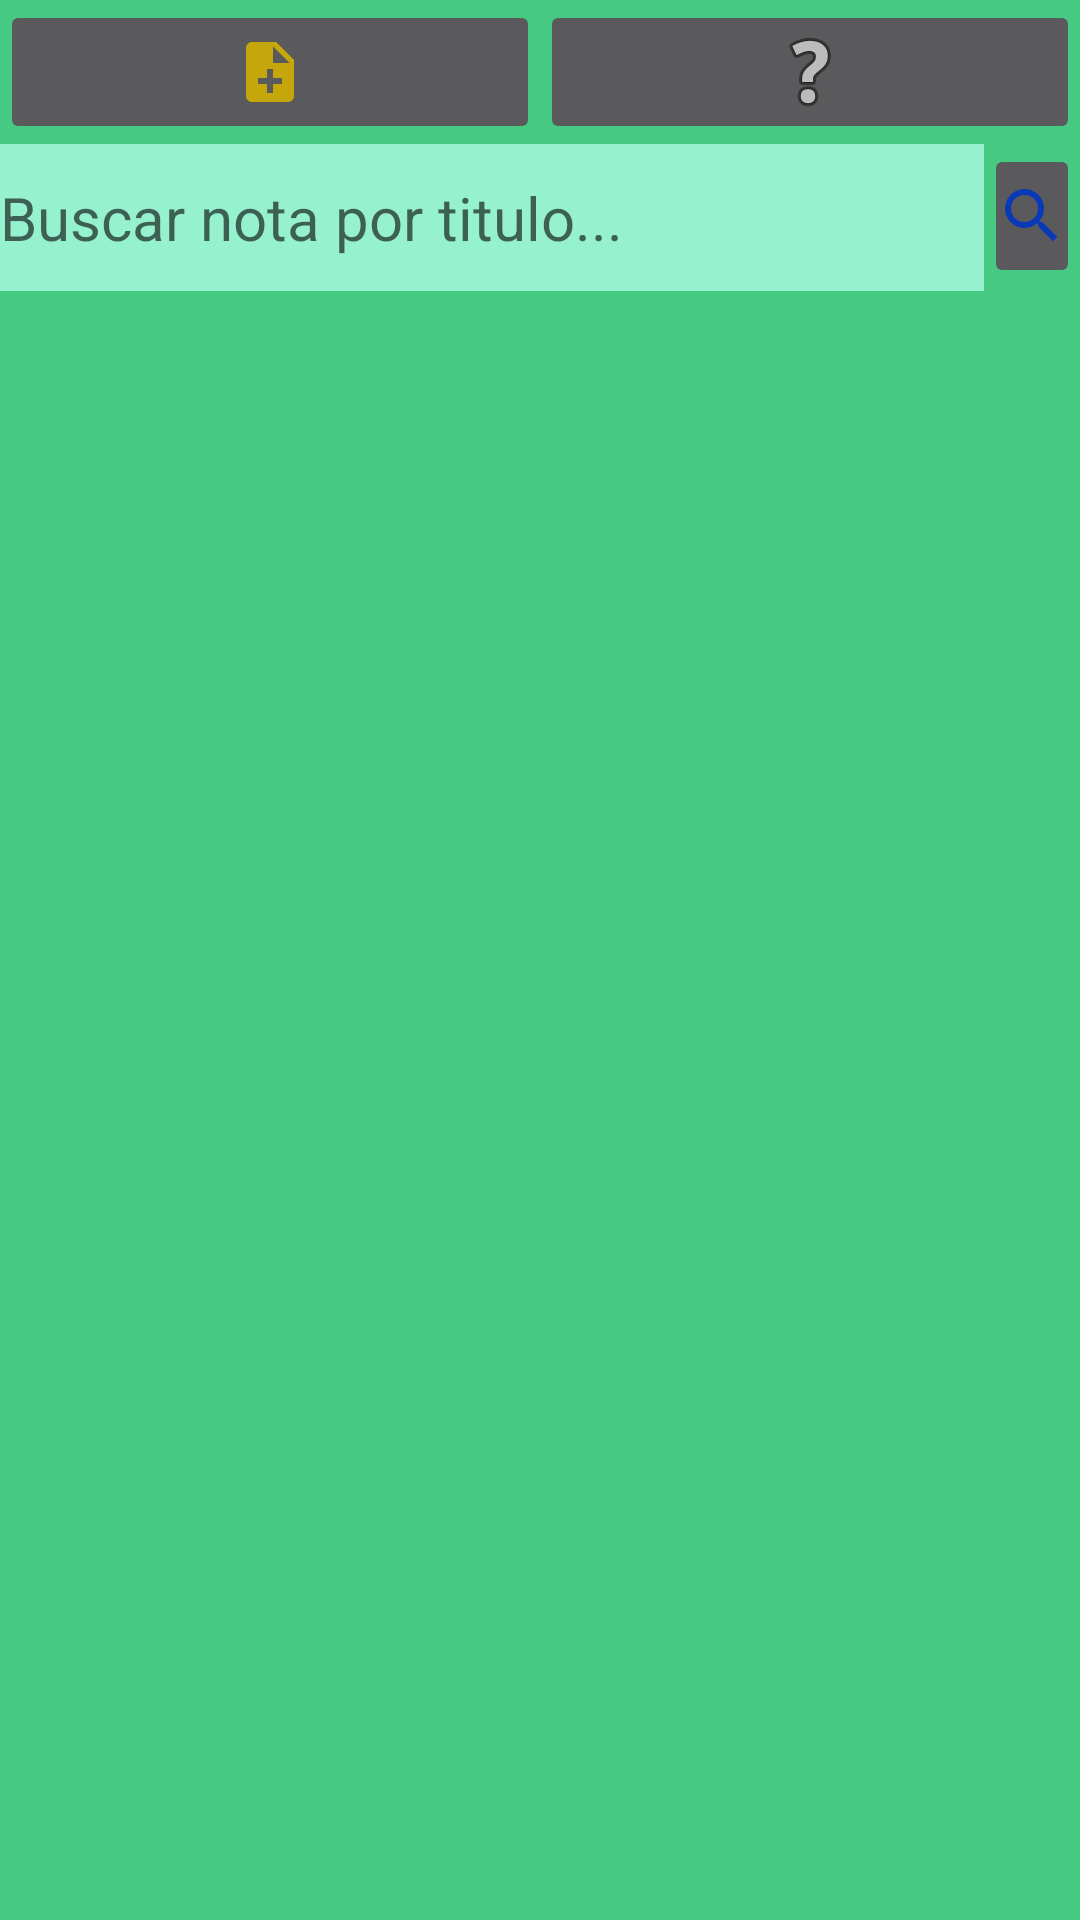

Icon click points for this 1080*1920 phone screenshot, format (x=x, y=y):
search: (x=1032, y=216)
